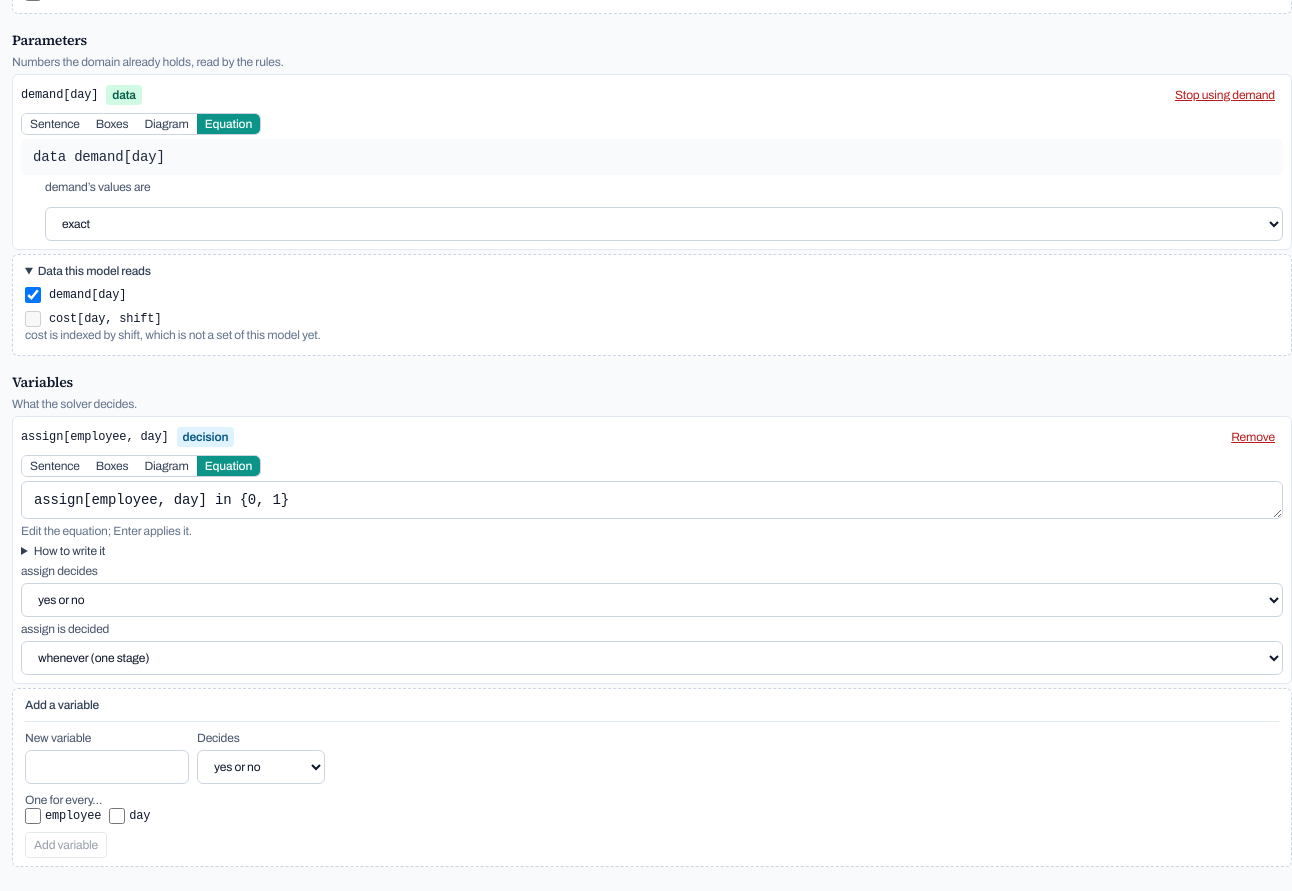
DeclarationsEditor › refuses a name the database would refuse anyway
The width and height of the screenshot is (1292, 891).
(page scrolled)
Step 1. Type "Standby" into the field labelled "New variable" → (107, 767), box [25,750,189,784]
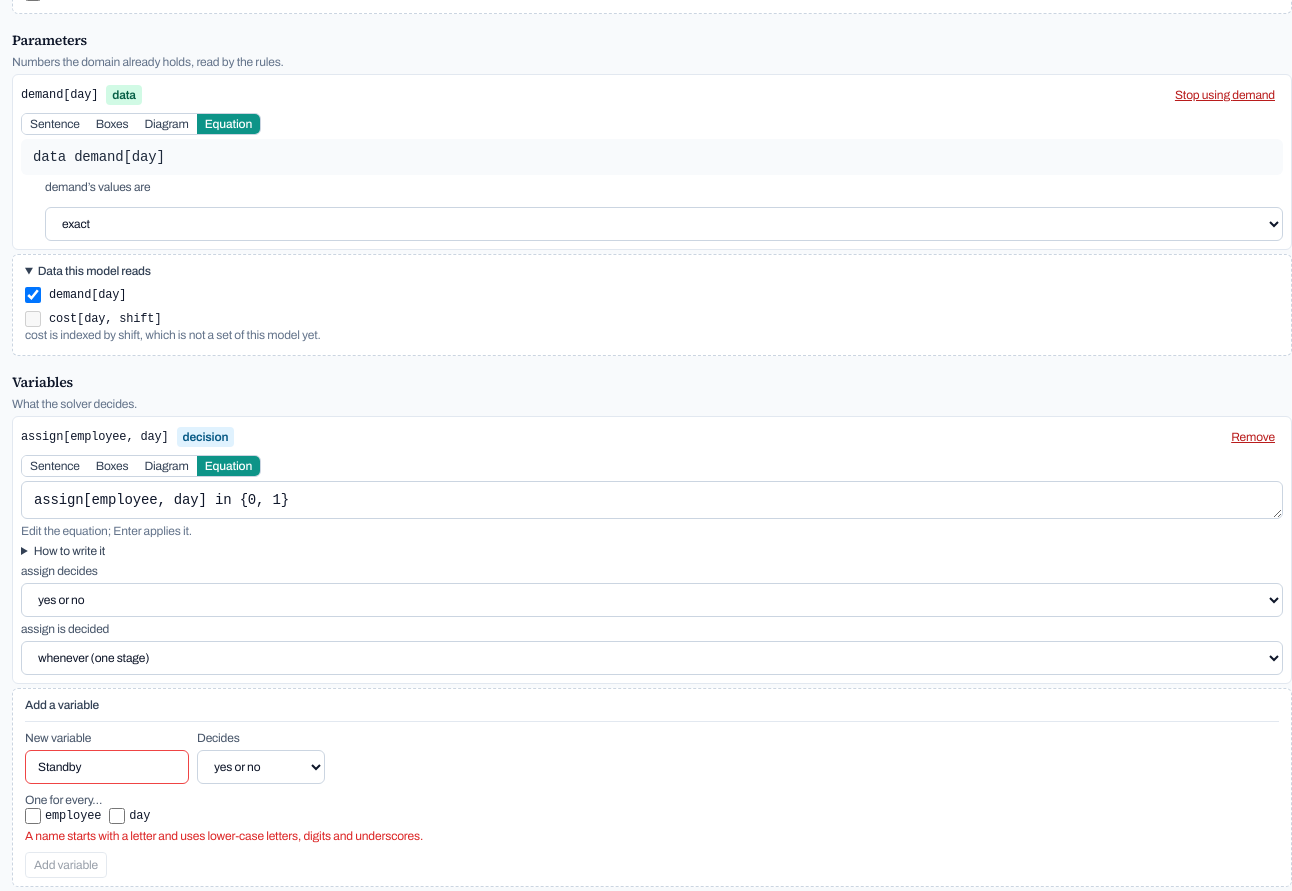
Expected: the button "Add variable" is disabled, [25,852,107,878]
Result: the message shows "lower-case" at [25,829,423,843]
